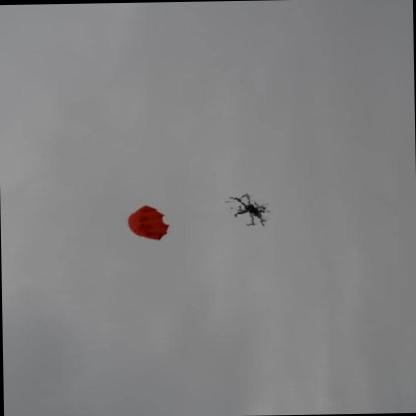drone: (223, 190, 274, 231)
